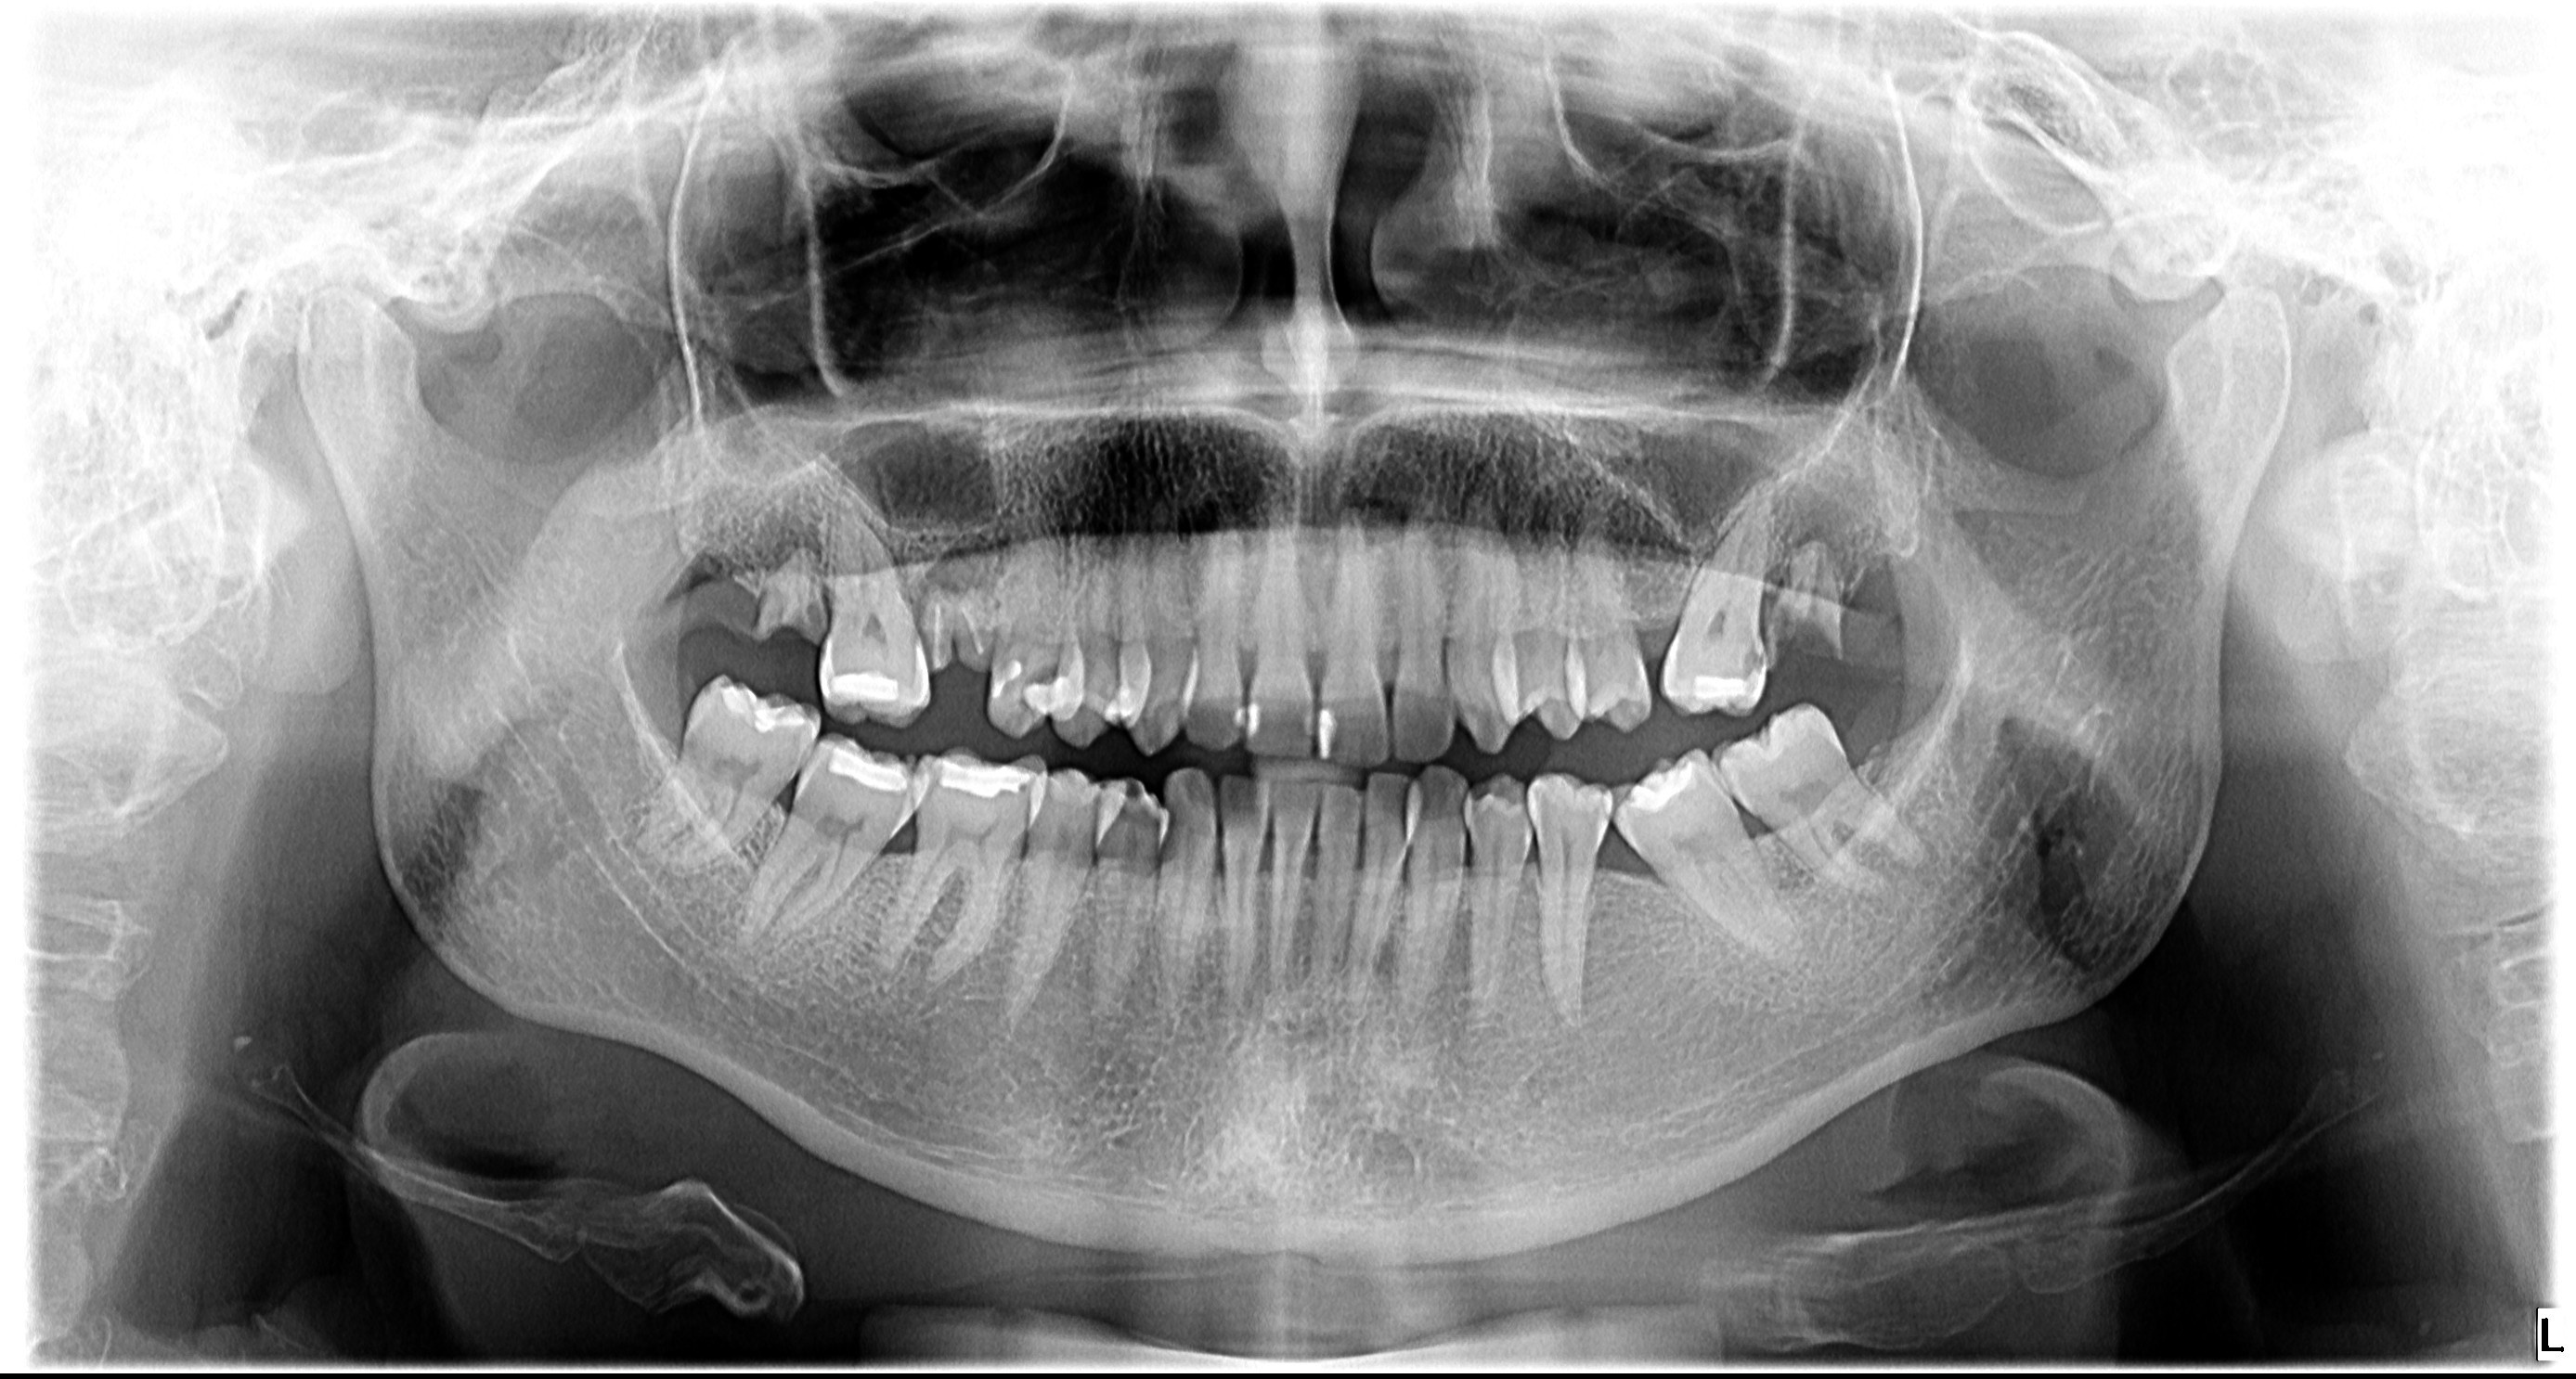CAR: (1031, 654, 1070, 691), (1739, 632, 1770, 679), (1588, 781, 1615, 833), (993, 674, 1026, 707)
IMT: (1603, 856, 1683, 897)
PRR: (722, 666, 811, 741), (821, 730, 911, 797), (1629, 744, 1702, 819), (937, 758, 1043, 805), (831, 664, 908, 715), (1021, 664, 1075, 725), (1308, 703, 1349, 764), (1690, 667, 1748, 710), (981, 654, 1029, 701), (1240, 691, 1274, 746), (1228, 696, 1244, 737)
ROT: (1767, 526, 1869, 666), (738, 548, 833, 649), (913, 574, 952, 678), (952, 582, 995, 669)
